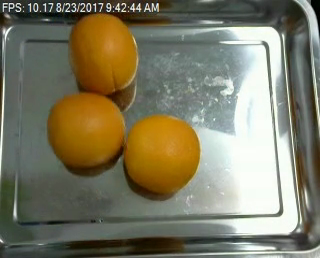Orange: (123, 114, 200, 194), (47, 93, 125, 169), (67, 13, 138, 94)
